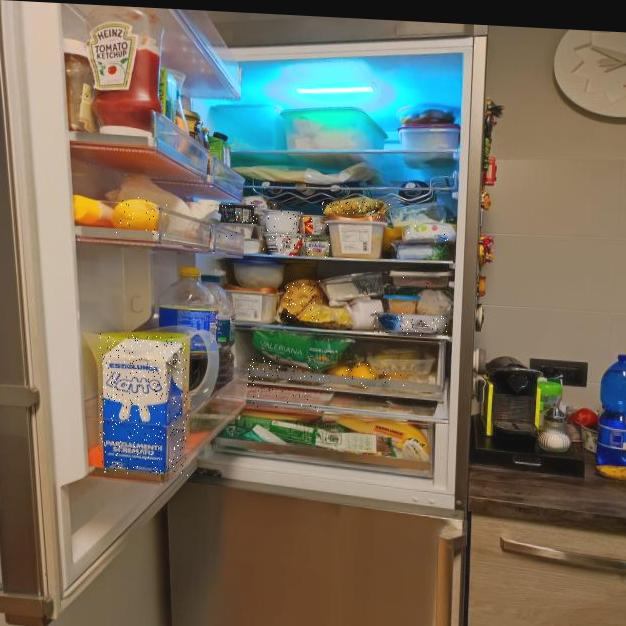cheese: (374, 312, 448, 338), (288, 279, 322, 323), (320, 199, 392, 218), (401, 222, 456, 244), (305, 236, 331, 258)
ham: (247, 384, 331, 414), (397, 277, 448, 290)
lemon: (116, 196, 168, 238), (350, 364, 380, 389), (382, 368, 412, 388), (329, 363, 350, 380)
milk: (100, 333, 188, 477)
olive: (248, 356, 281, 383), (285, 364, 324, 386)
yoghurt: (262, 232, 305, 257), (263, 209, 302, 233), (219, 204, 258, 226), (219, 223, 267, 239), (239, 195, 276, 214), (300, 214, 328, 236)
